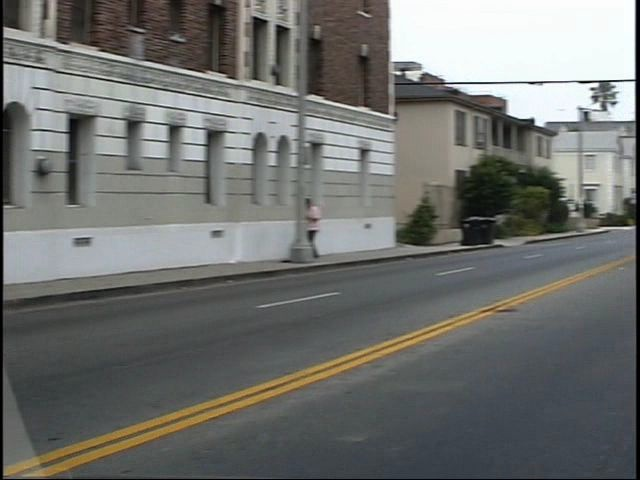person: (323, 190, 346, 261)
